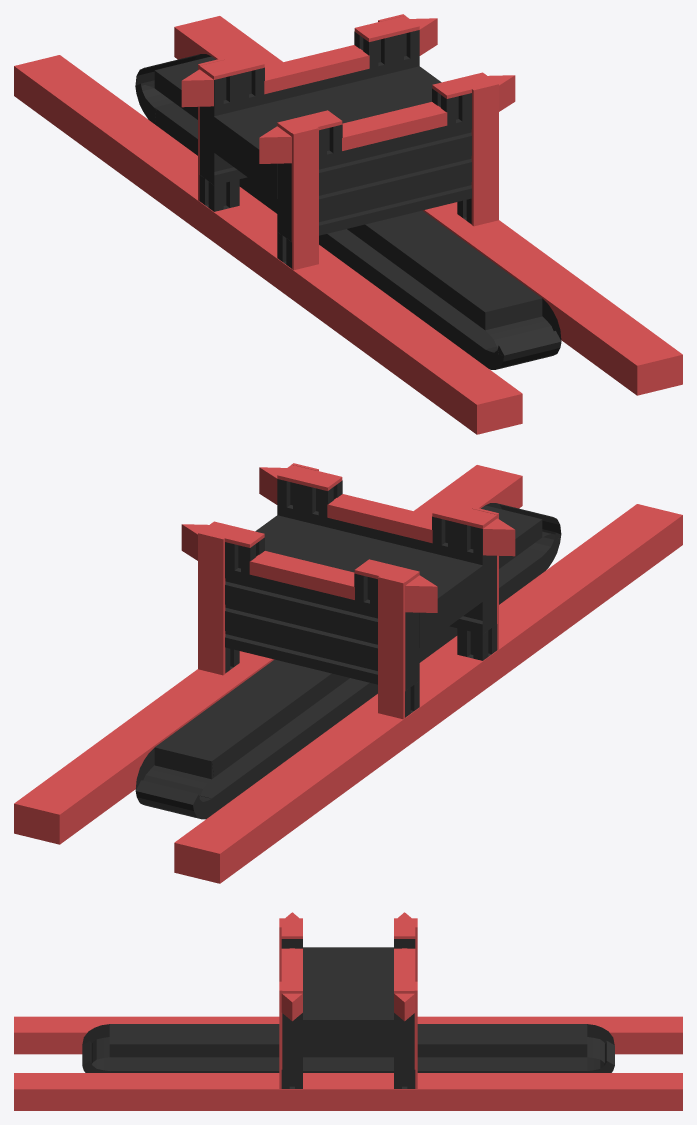
File: converyorgrande 1.fbx
3 views of the same model, one above another, from view 1: azimuth 30°, elevation 25°; view 2: azimuth 150°, elevation 25°; view 3: azimuth 270°, elevation 25° (orthographic). The views are drawn at different scales.
Parts seen in each view (by area): view 1: Cube.003, Cube.004, Cube.005, Cube.027, Cube.006, Cube.026, Cube.024, Cube.023, Cube.025, Cube.035, Cube.002, Cube.001 (+18 smaller); view 2: Cube.003, Cube.004, Cube.005, Cube.027, Cube.006, Cube.030, Cube.029, Cube.028, Cube.037, Cube.036, Cube.001, Cube.002 (+18 smaller); view 3: Cube.004, Cube.005, Cube.027, Cube.003, Cube.006, Plane.002, Plane, Plane.001, Plane.003, Cube.002, Cube.001, Cube.007 (+15 smaller).
Part boxes in pixels (bbox=[...]): Cube.003: bbox=[14, 55, 522, 434]; Cube.004: bbox=[174, 16, 682, 395]; Cube.005: bbox=[154, 56, 542, 330]; Cube.027: bbox=[213, 66, 441, 198]; Cube.006: bbox=[154, 103, 496, 365]; Cube.026: bbox=[277, 172, 471, 241]; Cube.024: bbox=[277, 146, 471, 215]; Cube.023: bbox=[277, 119, 471, 188]; Cube.025: bbox=[291, 126, 318, 270]; Cube.035: bbox=[471, 83, 498, 226]; Cube.002: bbox=[342, 102, 447, 150]; Cube.001: bbox=[264, 45, 369, 94]; Cube.003: bbox=[174, 504, 682, 883]; Cube.004: bbox=[14, 465, 522, 844]; Cube.005: bbox=[154, 505, 542, 779]; Cube.027: bbox=[255, 515, 483, 647]; Cube.006: bbox=[200, 552, 542, 814]; Cube.030: bbox=[225, 621, 419, 690]; Cube.029: bbox=[225, 595, 419, 664]; Cube.028: bbox=[225, 568, 419, 637]; Cube.037: bbox=[378, 575, 405, 719]; Cube.036: bbox=[198, 532, 225, 675]; Cube.001: bbox=[249, 551, 354, 599]; Cube.002: bbox=[327, 494, 432, 543]; Cube.004: bbox=[14, 1073, 682, 1110]; Cube.005: bbox=[109, 1024, 587, 1057]; Cube.027: bbox=[302, 947, 394, 1045]; Cube.003: bbox=[14, 1016, 682, 1054]; Cube.006: bbox=[109, 1057, 587, 1072]; Plane.002: bbox=[587, 1024, 614, 1063]; Plane: bbox=[82, 1024, 109, 1063]; Plane.001: bbox=[82, 1041, 112, 1072]; Plane.003: bbox=[587, 1041, 614, 1072]; Cube.002: bbox=[281, 948, 302, 972]; Cube.001: bbox=[394, 948, 415, 972]; Cube.007: bbox=[394, 993, 415, 1021].
Bounding box in the file's own units: 447 × 277 × 1400.
